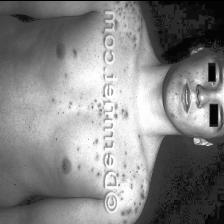Non-Cancerous Skin Condition: (76, 80, 104, 185), (116, 146, 145, 208), (118, 0, 142, 56), (120, 96, 140, 130)
